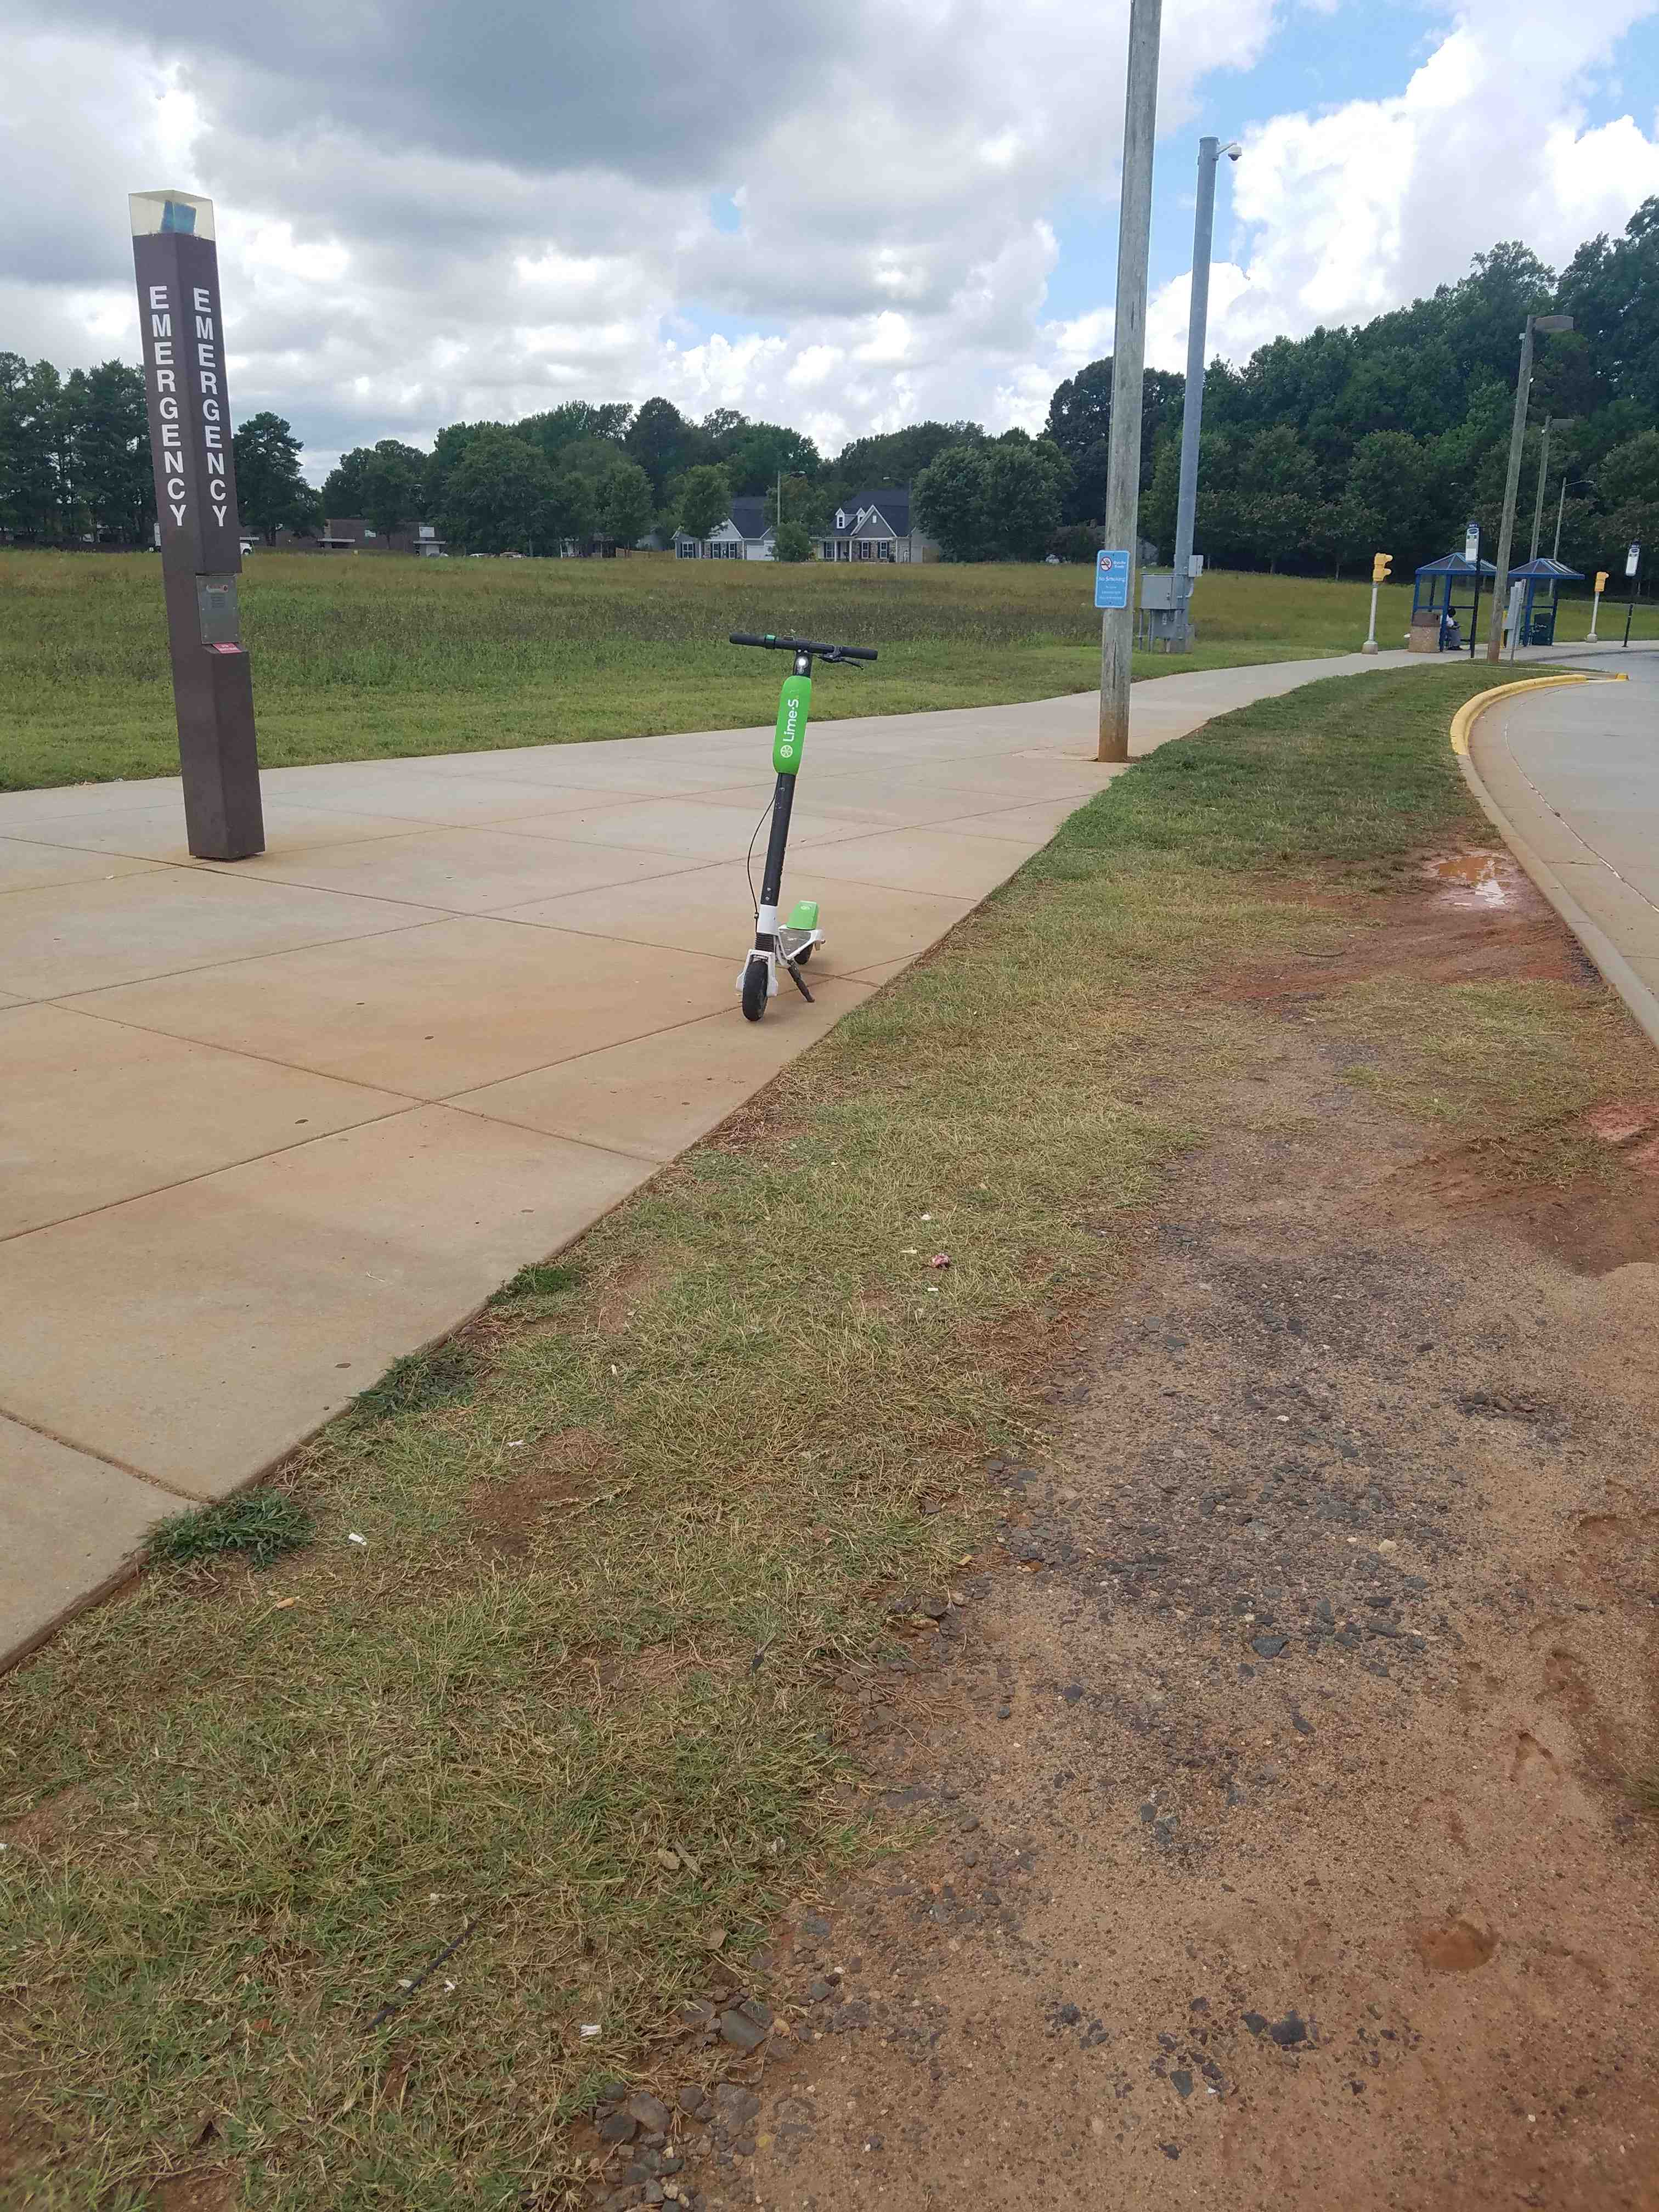scooter: (694, 606, 899, 1010)
